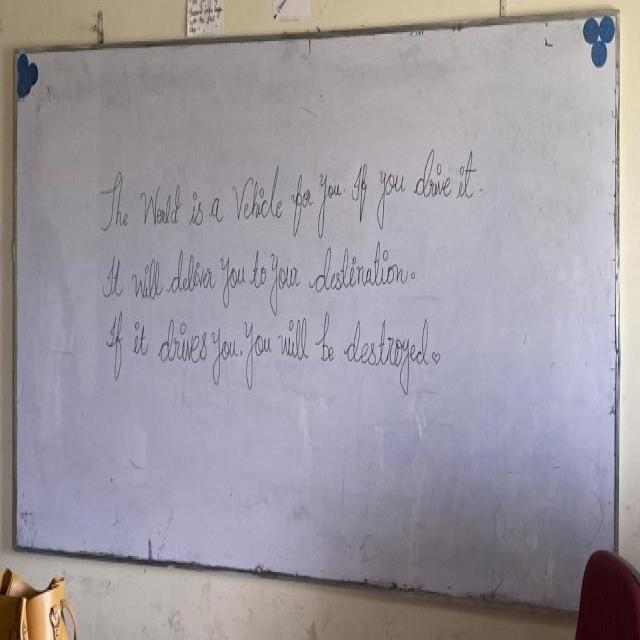White-board: (14, 14, 619, 616)
